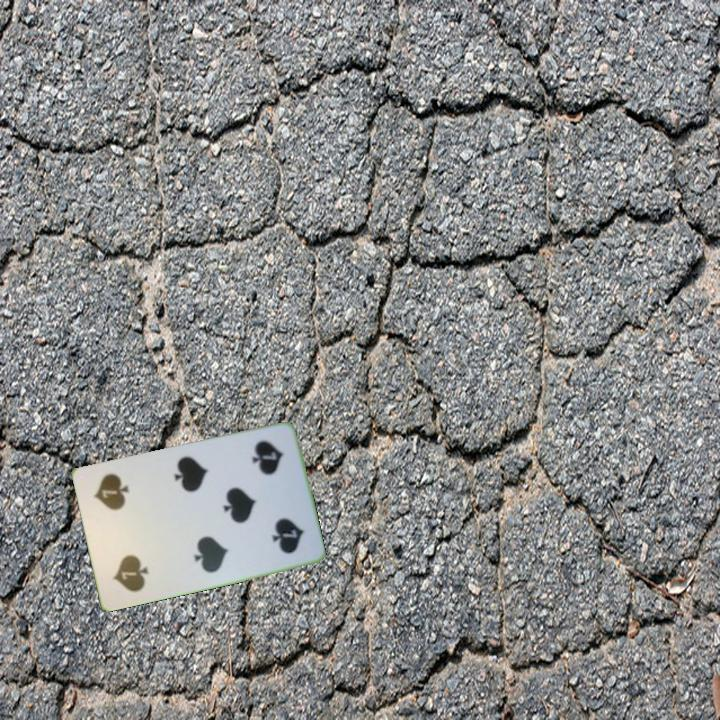s_7.png: (232, 431, 302, 508), (95, 524, 165, 600)
